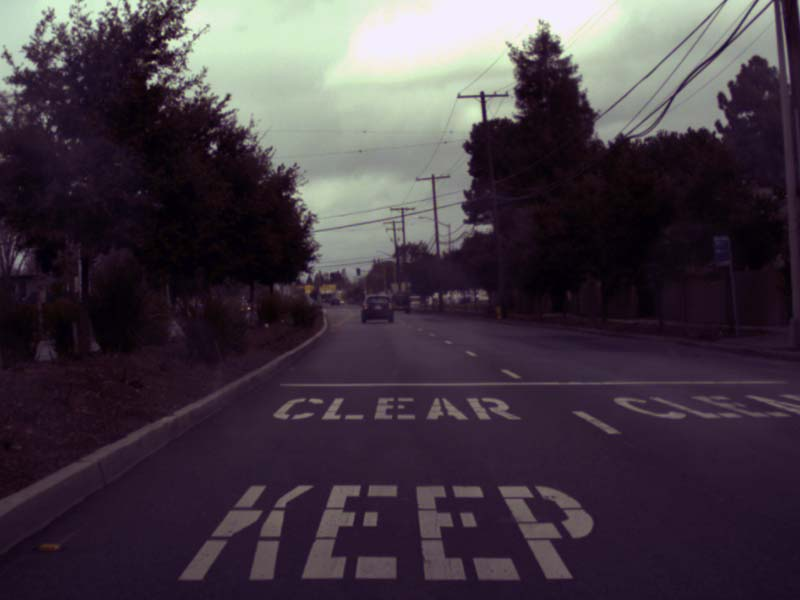Green: (384, 283, 388, 291), (330, 272, 334, 280), (356, 267, 360, 275)
